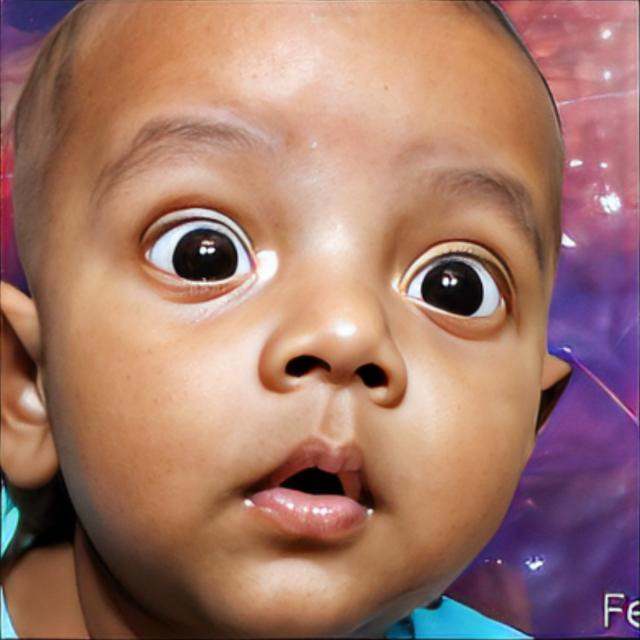surprise: (49, 0, 568, 640)
